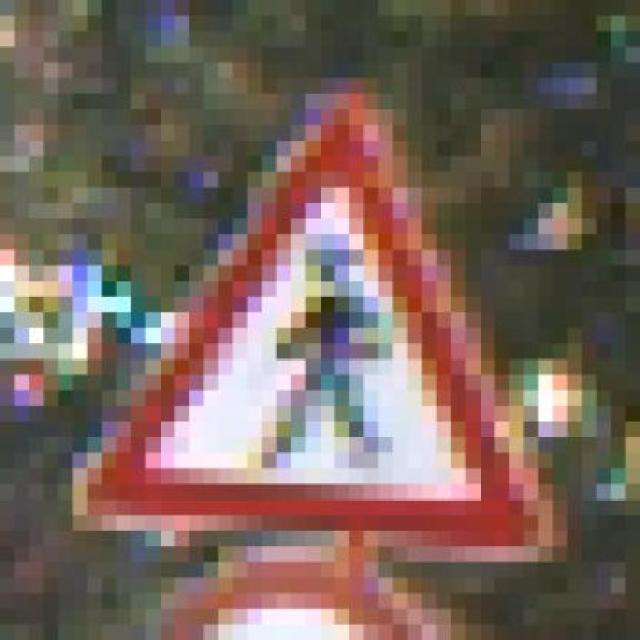Pedestrian Crossing: (87, 62, 567, 562)
